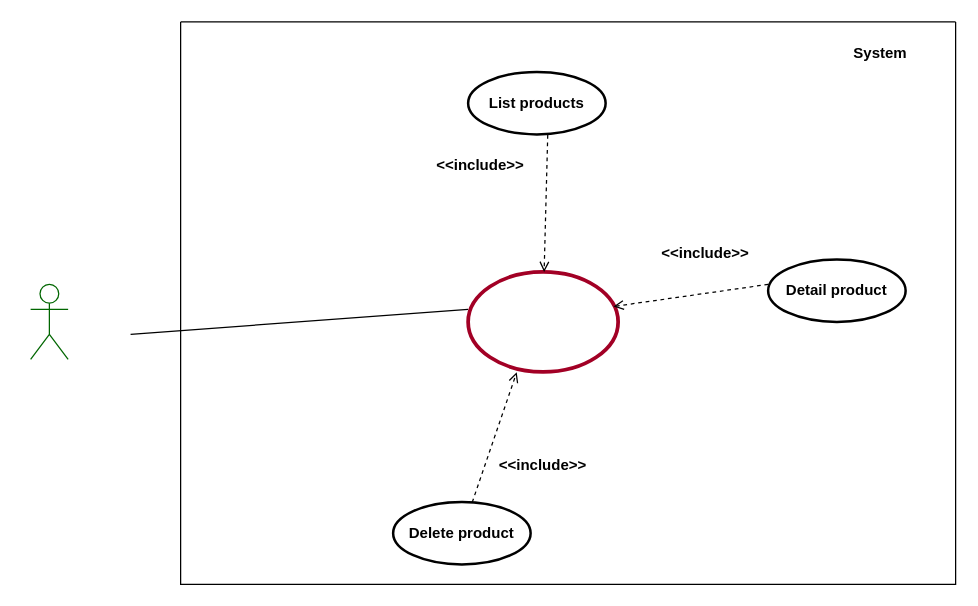
The diagram is 978 pixels wide and 606 high, and some of its shapes have lost their labels. Each missing label, with the box of its shape:
Login: (466, 269, 619, 373)
Product: (29, 283, 68, 359)
